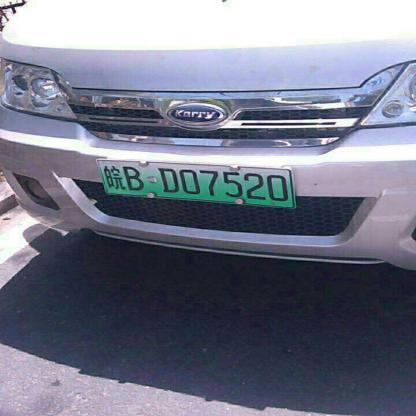lp: (95, 160, 295, 208)
